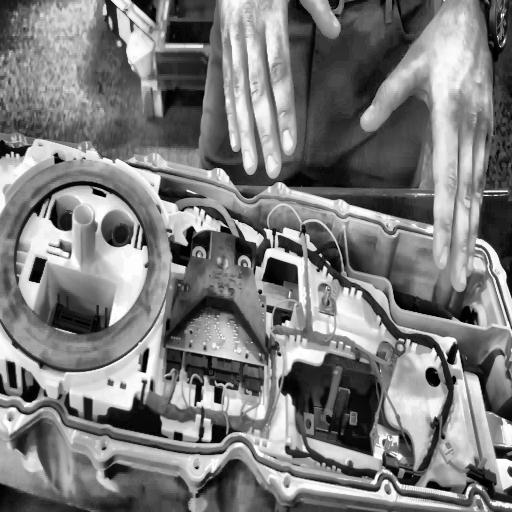bms_unit: (0, 116, 512, 512)
connector: (0, 162, 168, 352)
